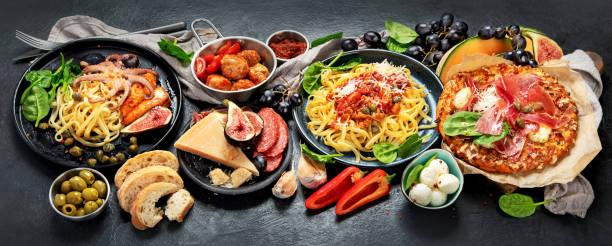Braised Crucian Carp: (13, 37, 182, 170), (441, 53, 600, 193), (292, 48, 441, 171), (175, 103, 289, 196), (190, 35, 276, 105)
